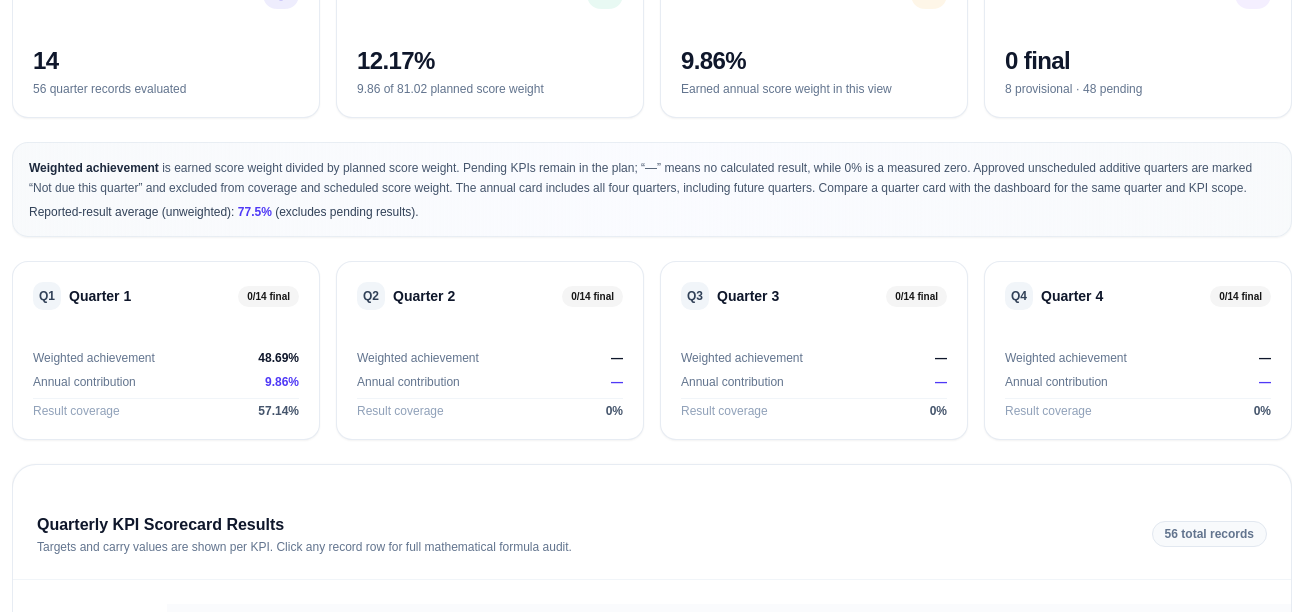
Test: quarterly report achievement semantics › switches the headline to the selected quarter without changing the summary denominator
(page scrolled)
Click the button with aria-label "View Q1 performance" at (166, 350), box [12,261,320,440]
(page scrolled)
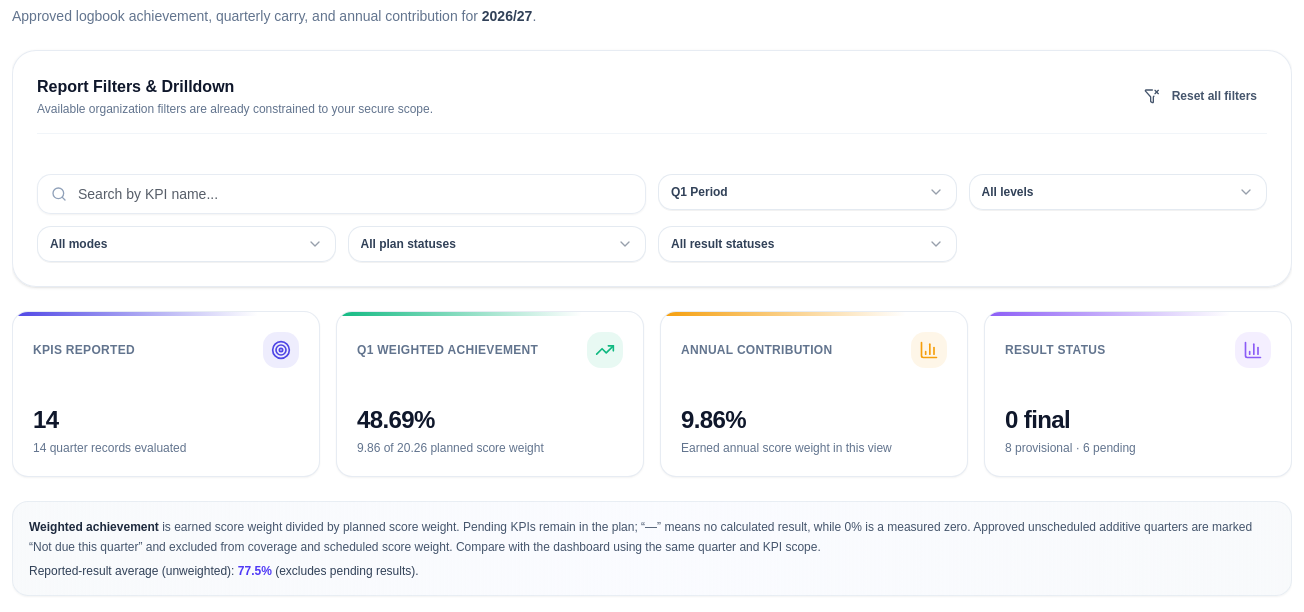
Expected: the text "Q1 weighted achievement" is shown, [357,342,538,358]
Expected: the text "12.17%" is gone
